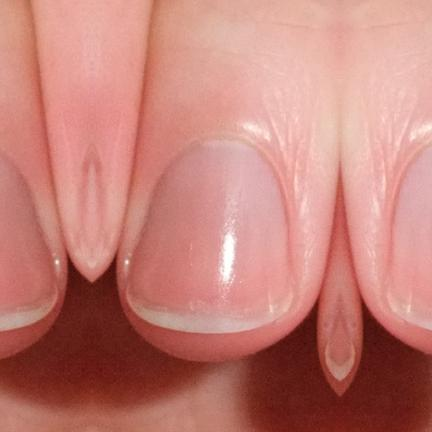Nail: (125, 136, 292, 333), (0, 147, 57, 332), (387, 145, 432, 330)
